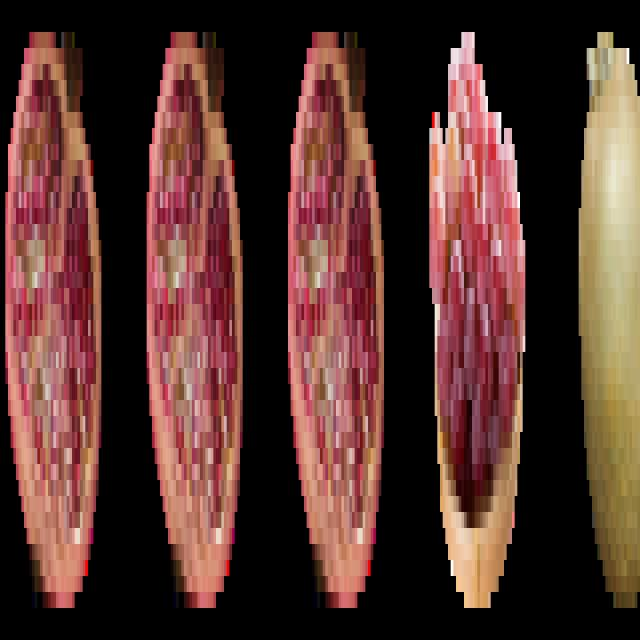grape: (424, 16, 530, 623)
pomegranate: (283, 9, 391, 627), (143, 13, 246, 625), (3, 19, 104, 623)
